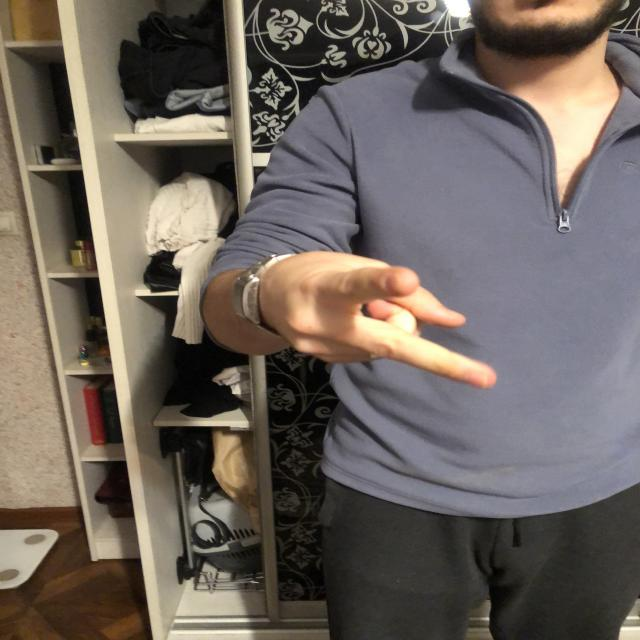scissors: (262, 256, 496, 387)
